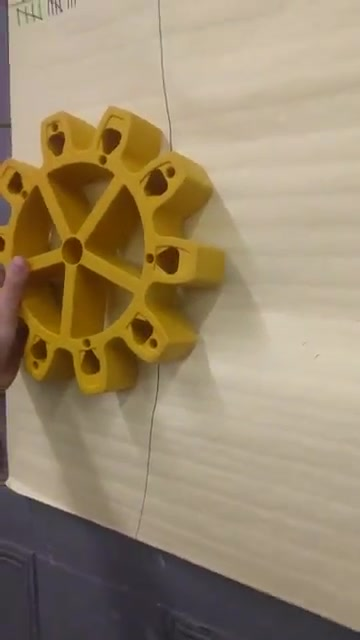gear: (3, 98, 220, 416)
